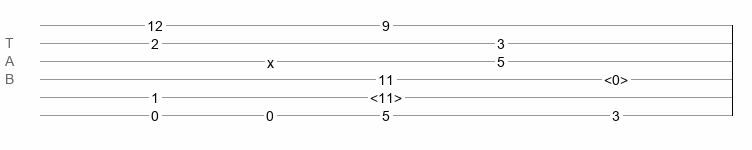0: (151, 108, 159, 118), (266, 108, 274, 118)
1: (151, 90, 159, 100)
11: (378, 72, 394, 82)
12: (147, 18, 163, 28)
2: (151, 36, 159, 46)
3: (497, 36, 505, 46), (612, 108, 620, 118)
5: (382, 108, 390, 118), (497, 54, 505, 64)
9: (382, 18, 390, 28)
harmonic: (370, 90, 402, 100), (604, 72, 628, 82)
x: (267, 55, 274, 63)
